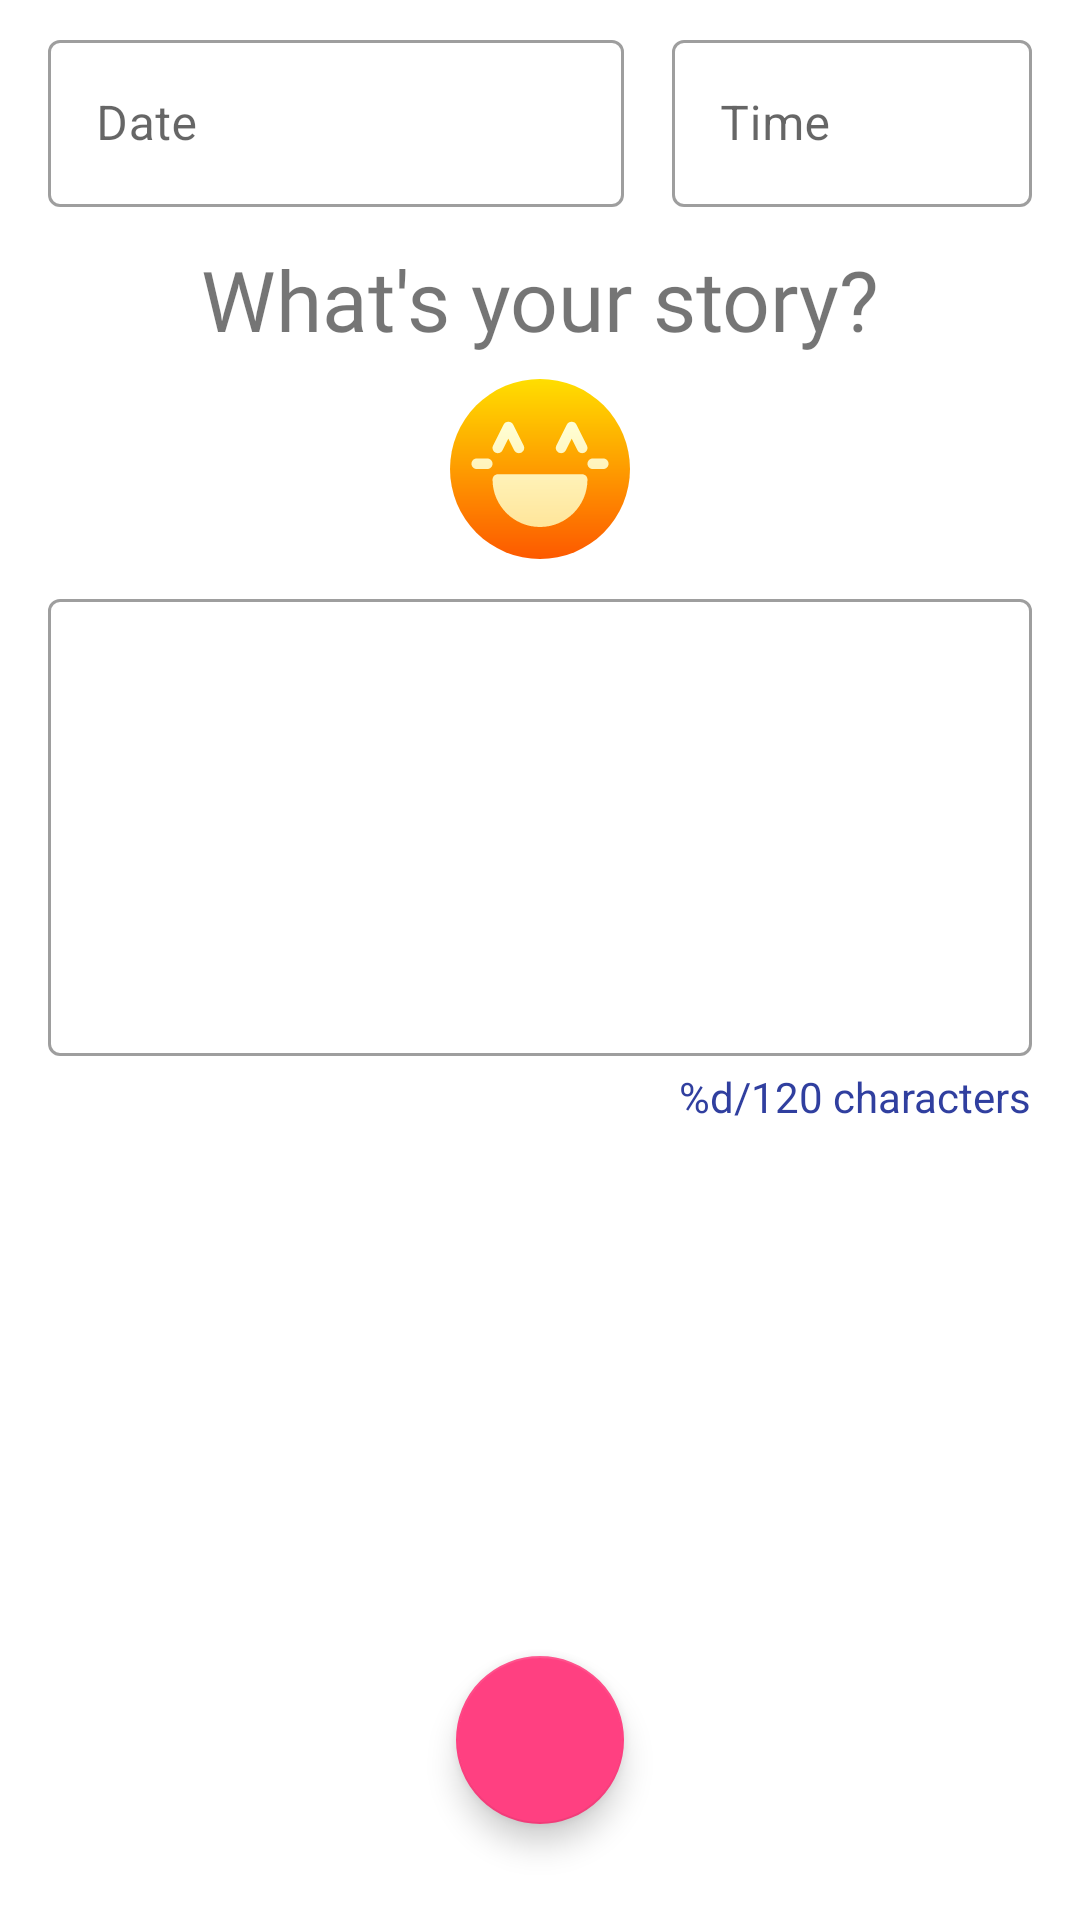

Screen size 1080x1920. Icon name, then its center in pixels as (x=x, y=y):
joy: (x=540, y=469)
